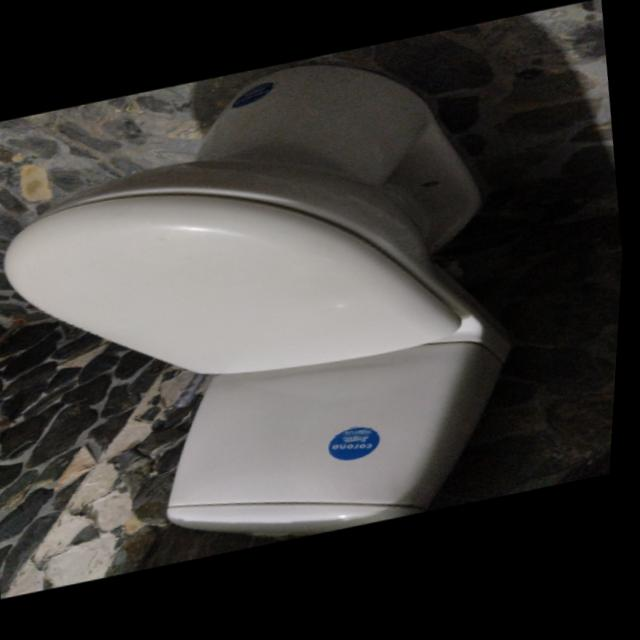toilet: (0, 31, 554, 599)
